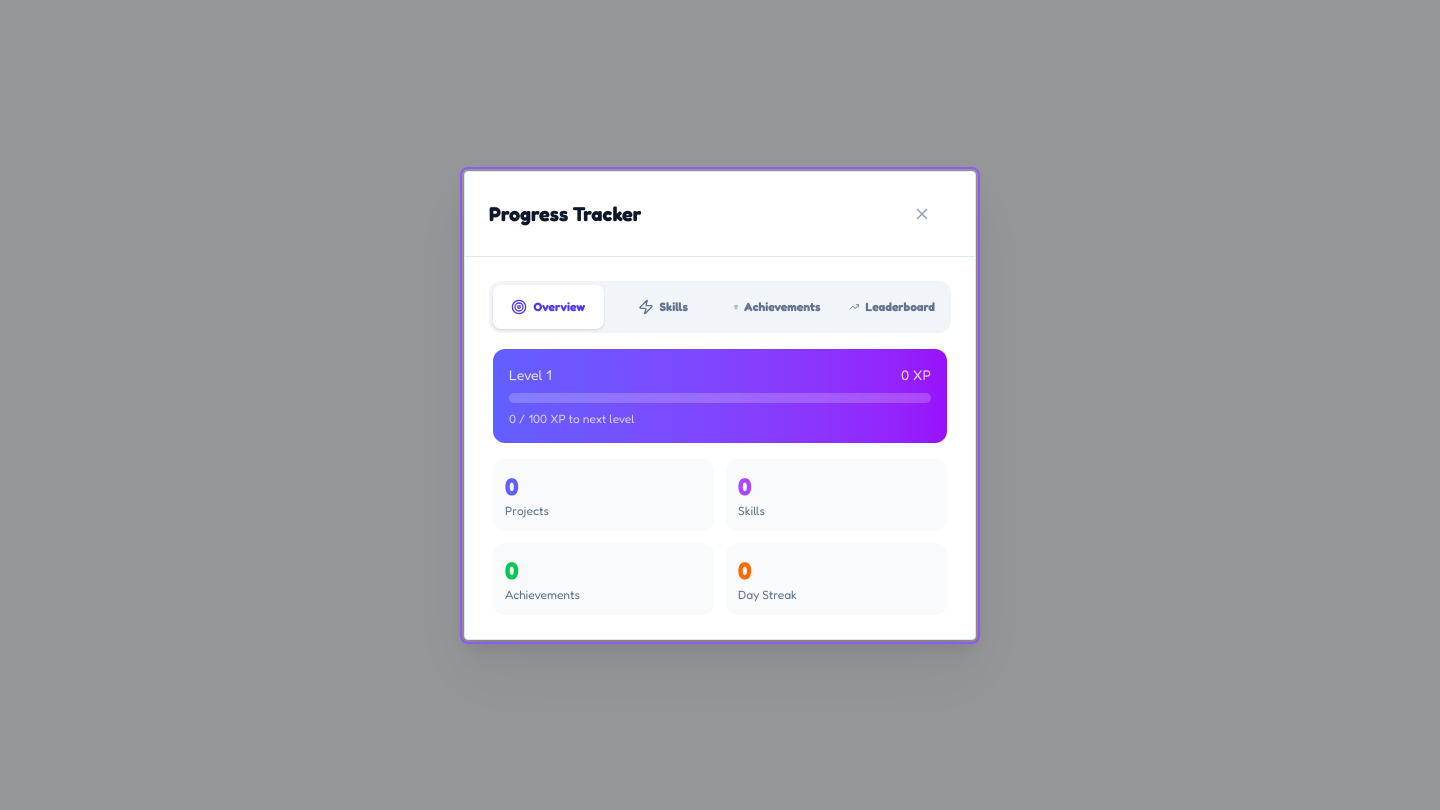
Test: ProgressTracker › should switch to achievements tab
Click the button "Achievements" at (777, 306), box [722,284,832,328]
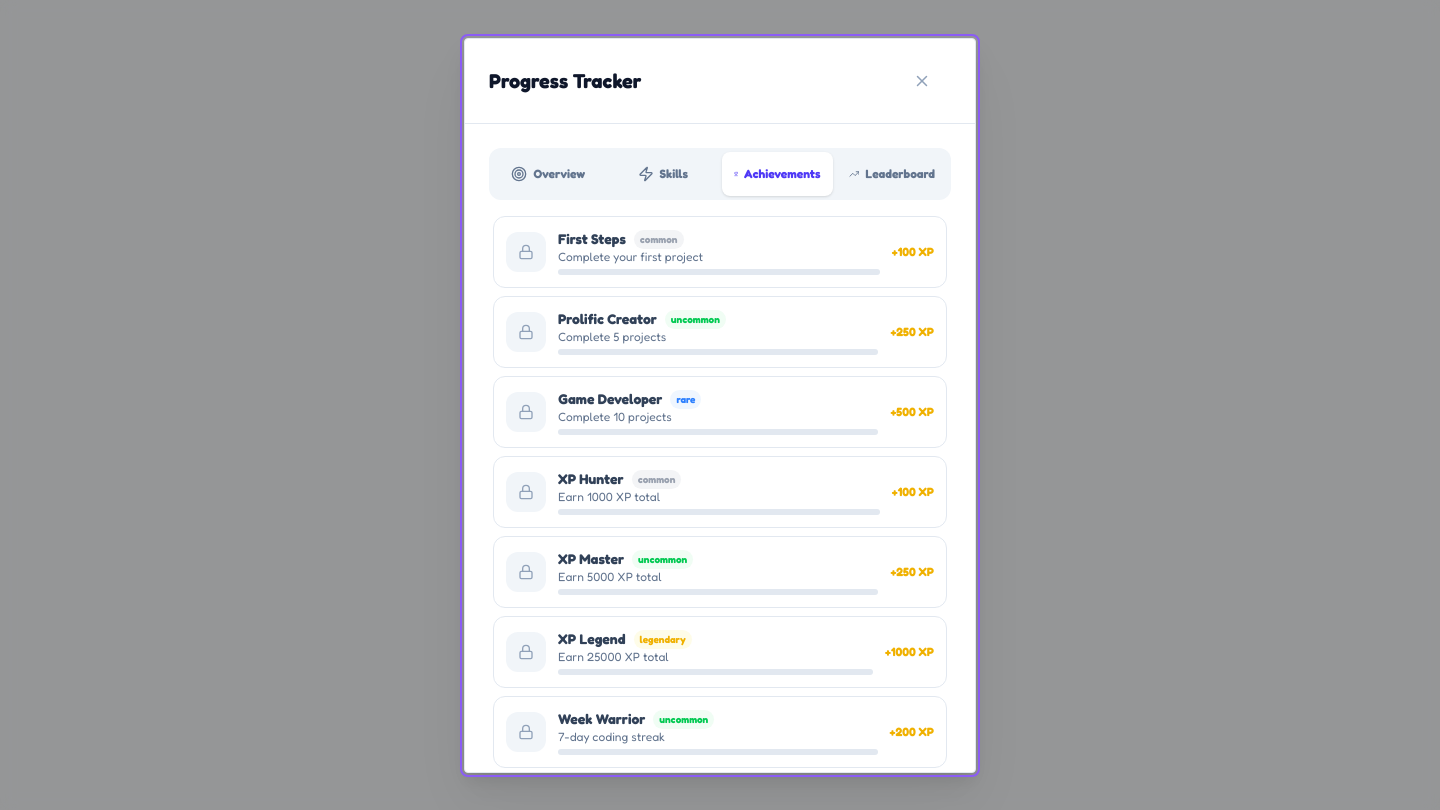
Result: the text "First Steps" is shown at [558,228,626,248]
